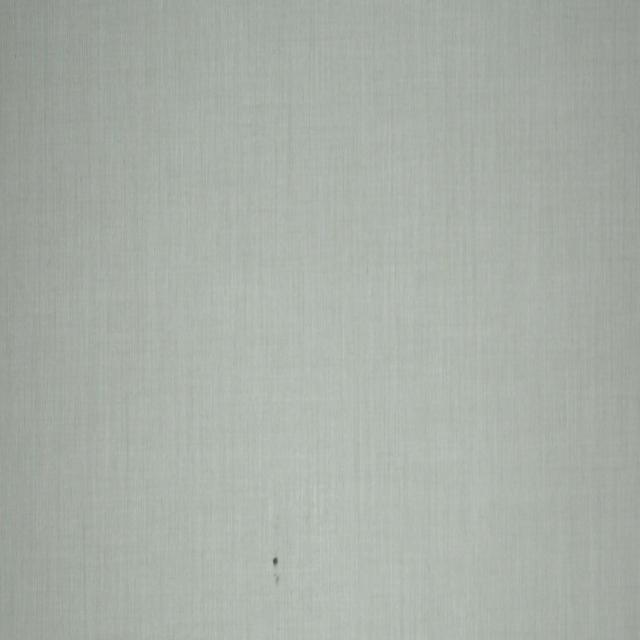dirty: (273, 557, 279, 584)
